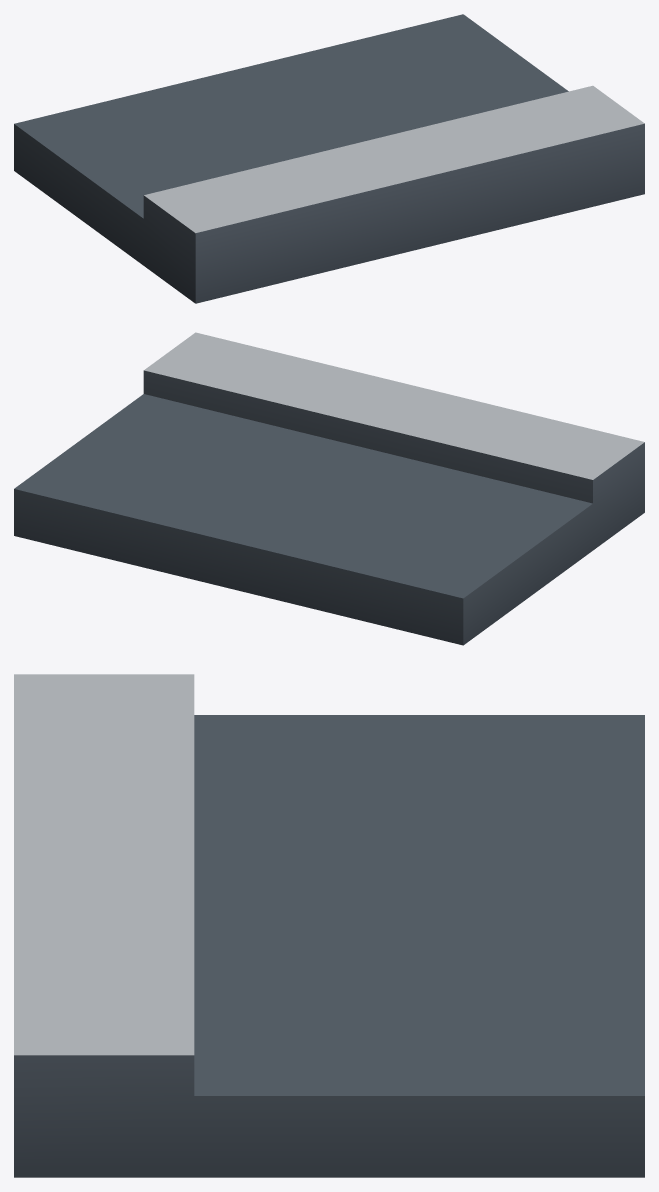
File: balcony-floor-center.glb
3 renders of one model, top to bottom at view 1: azimuth 30°, elevation 25°; view 2: azimuth 150°, elevation 25°; view 3: azimuth 270°, elevation 25°, orthographic. The views are drawn at different scales.
Visible parts, largest first — view 1: balcony-floor-center; view 2: balcony-floor-center; view 3: balcony-floor-center.
Part boxes in pixels (x1=…): balcony-floor-center: x1=14, y1=14, x2=644, y2=303; balcony-floor-center: x1=14, y1=332, x2=644, y2=645; balcony-floor-center: x1=14, y1=674, x2=644, y2=1177.
Bounding box in the file's own units: 1 × 0.15 × 0.7.
